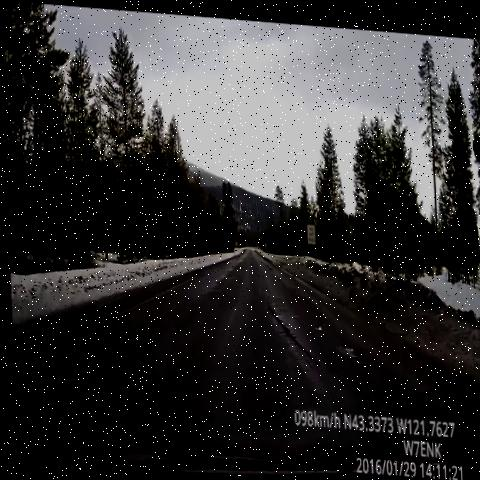pothole: (259, 289, 321, 379), (335, 328, 364, 363), (307, 311, 331, 336)
